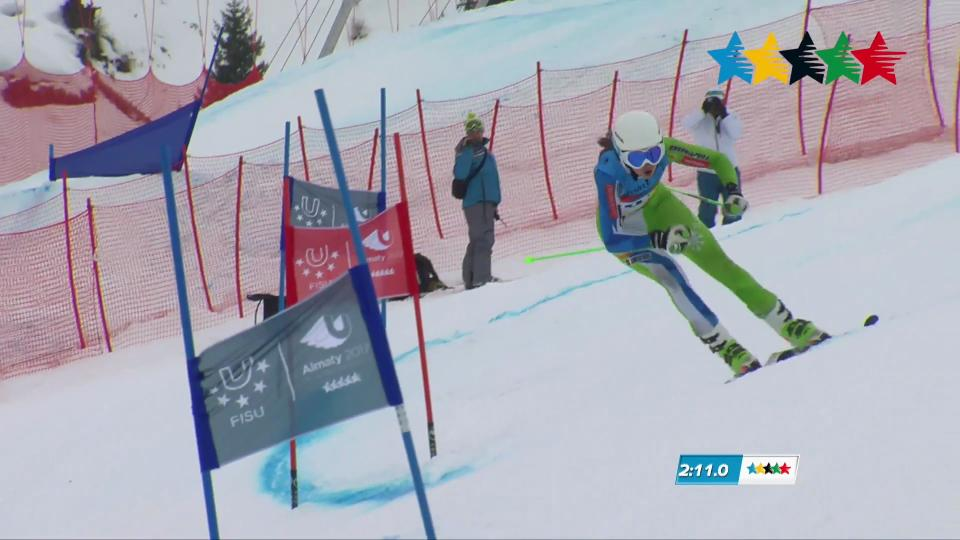gate: (138, 131, 236, 540), (382, 123, 461, 477)
